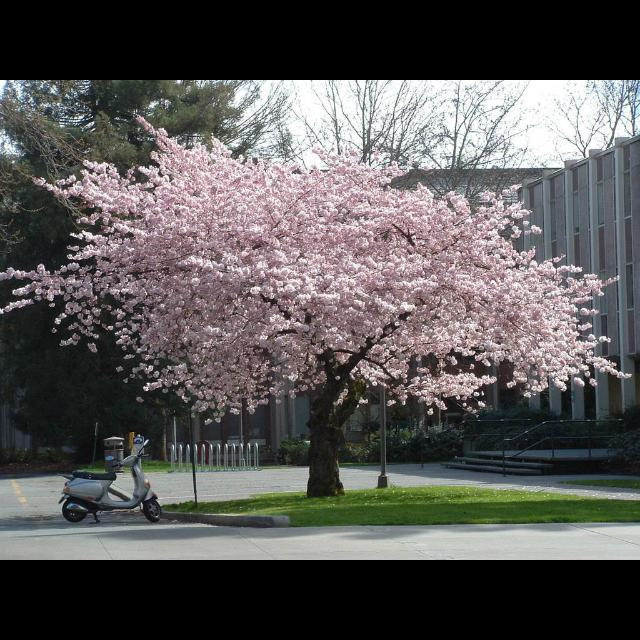Flower: (0, 115, 634, 427), (256, 403, 258, 405)
